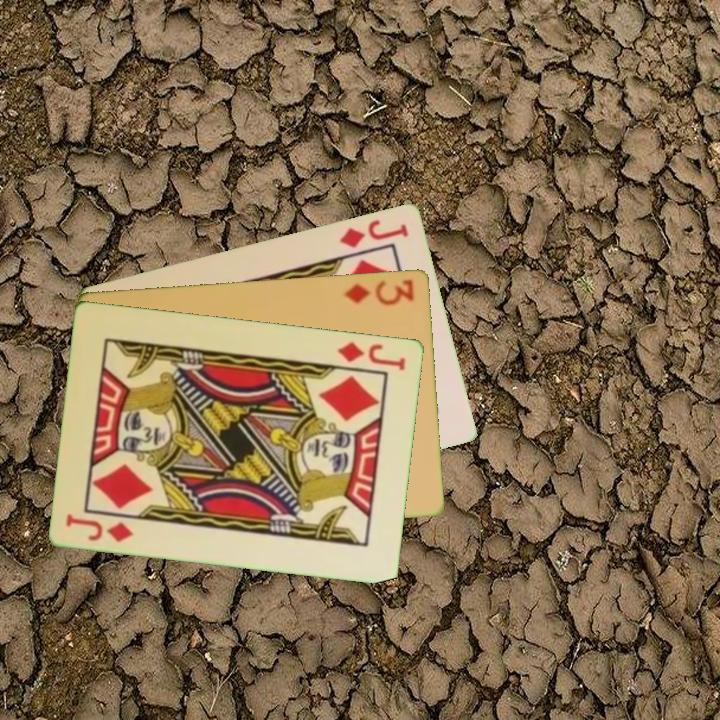3d: (341, 275, 417, 308)
Jd: (336, 215, 412, 251), (335, 337, 409, 373), (63, 510, 137, 544)
